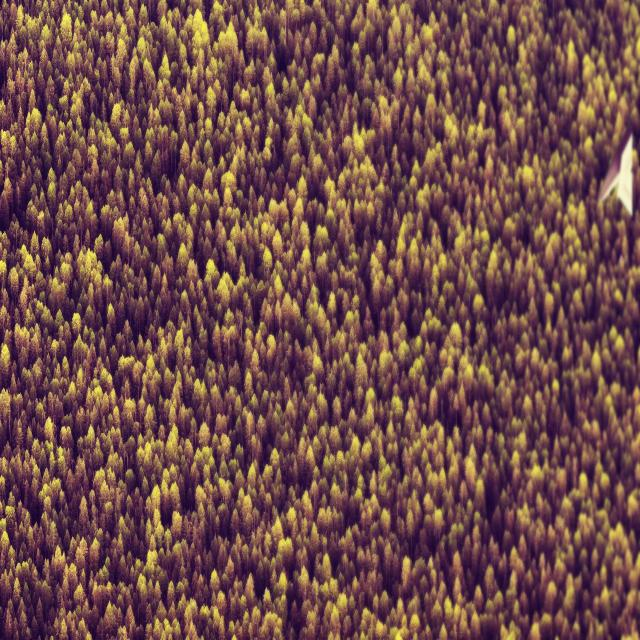airplane: (598, 128, 635, 216)
